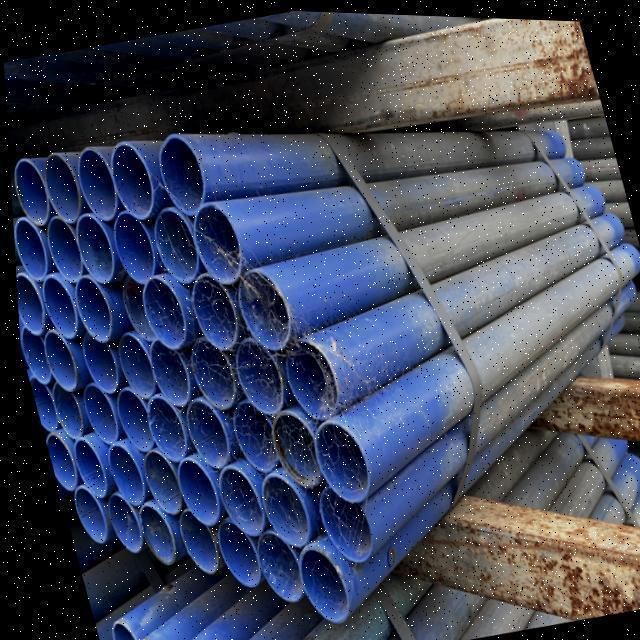pipe: (305, 413, 363, 501), (229, 261, 287, 345), (303, 475, 363, 554), (241, 512, 293, 595), (184, 195, 237, 275), (224, 331, 277, 410), (101, 131, 151, 213), (153, 121, 200, 208), (247, 466, 303, 539), (145, 195, 198, 271), (105, 201, 156, 278), (182, 268, 232, 346), (261, 404, 312, 480), (204, 504, 251, 584), (222, 390, 272, 465), (277, 336, 329, 408), (288, 540, 339, 613), (181, 329, 229, 404), (133, 265, 180, 341), (206, 461, 256, 532), (34, 307, 75, 391), (174, 391, 222, 461), (72, 316, 118, 389), (70, 138, 113, 216), (164, 450, 210, 521), (165, 498, 210, 570), (138, 330, 184, 399), (136, 386, 182, 454), (37, 206, 80, 277), (65, 269, 109, 336), (69, 206, 110, 276), (35, 147, 74, 218), (133, 443, 172, 514), (109, 325, 149, 392), (7, 151, 46, 219), (95, 434, 138, 495), (126, 495, 169, 556), (95, 486, 135, 547), (10, 208, 47, 273), (62, 430, 101, 491), (33, 418, 69, 484), (109, 380, 145, 445), (73, 377, 113, 435), (33, 269, 70, 331), (62, 479, 98, 537), (41, 374, 78, 429), (15, 320, 45, 379), (115, 269, 142, 331), (12, 266, 36, 326), (22, 374, 50, 422), (98, 615, 128, 640)
